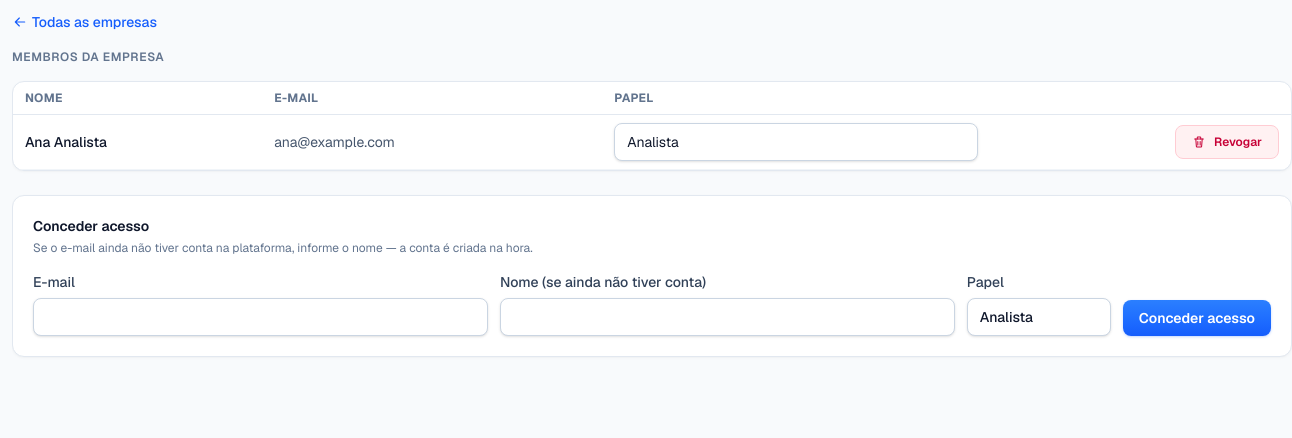
Test: AdminOrganizationMembersPage › revoga o acesso de um membro
Check: the text "Ana Analista" is shown, box top-left (13, 114), bottom-right (262, 170)
What coordinates should you click on to do the following:
click the button "Revogar"
I would click on:
 (1227, 142)
Its box is top-left (1175, 125), bottom-right (1279, 159).
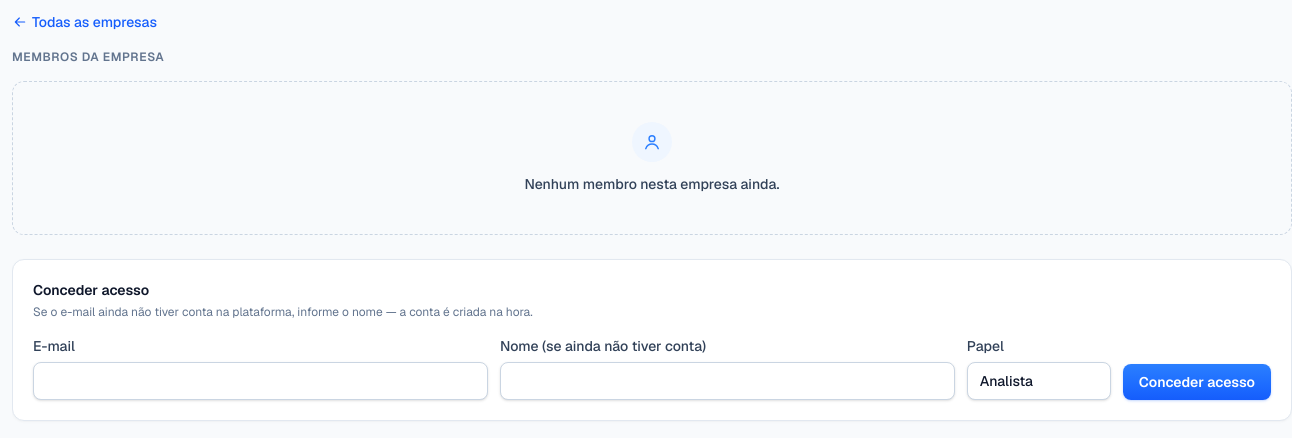
Check: the text "Ana Analista" is gone
